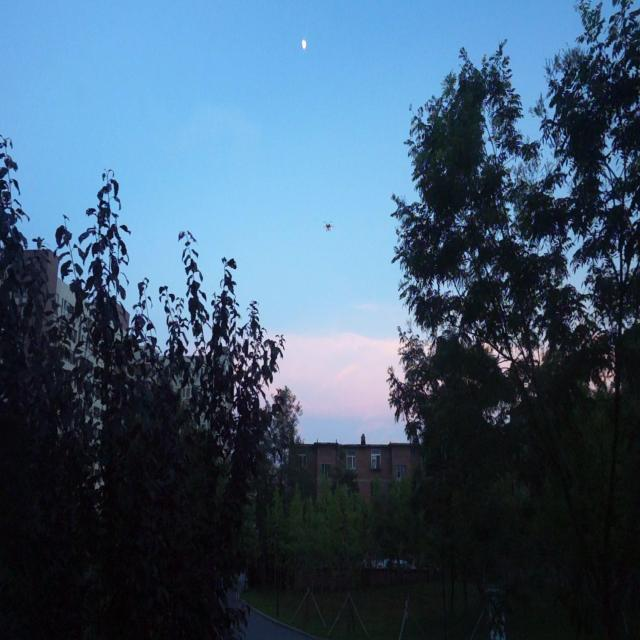drone: (321, 216, 336, 234)
